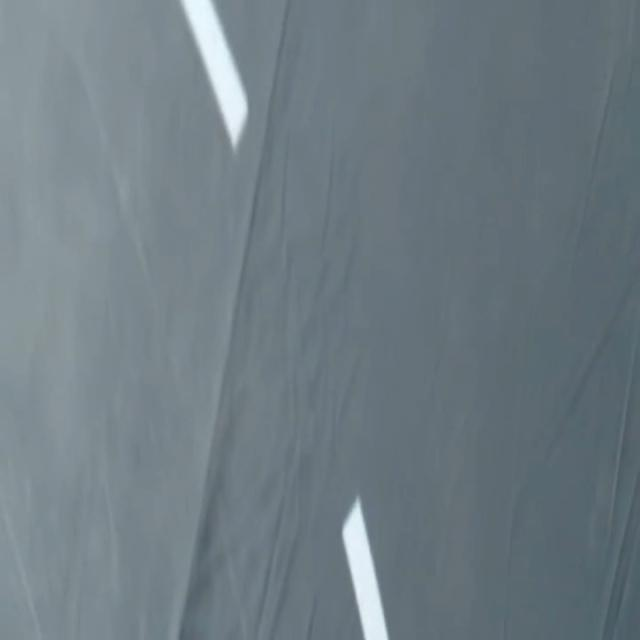center: (342, 497, 388, 639)
